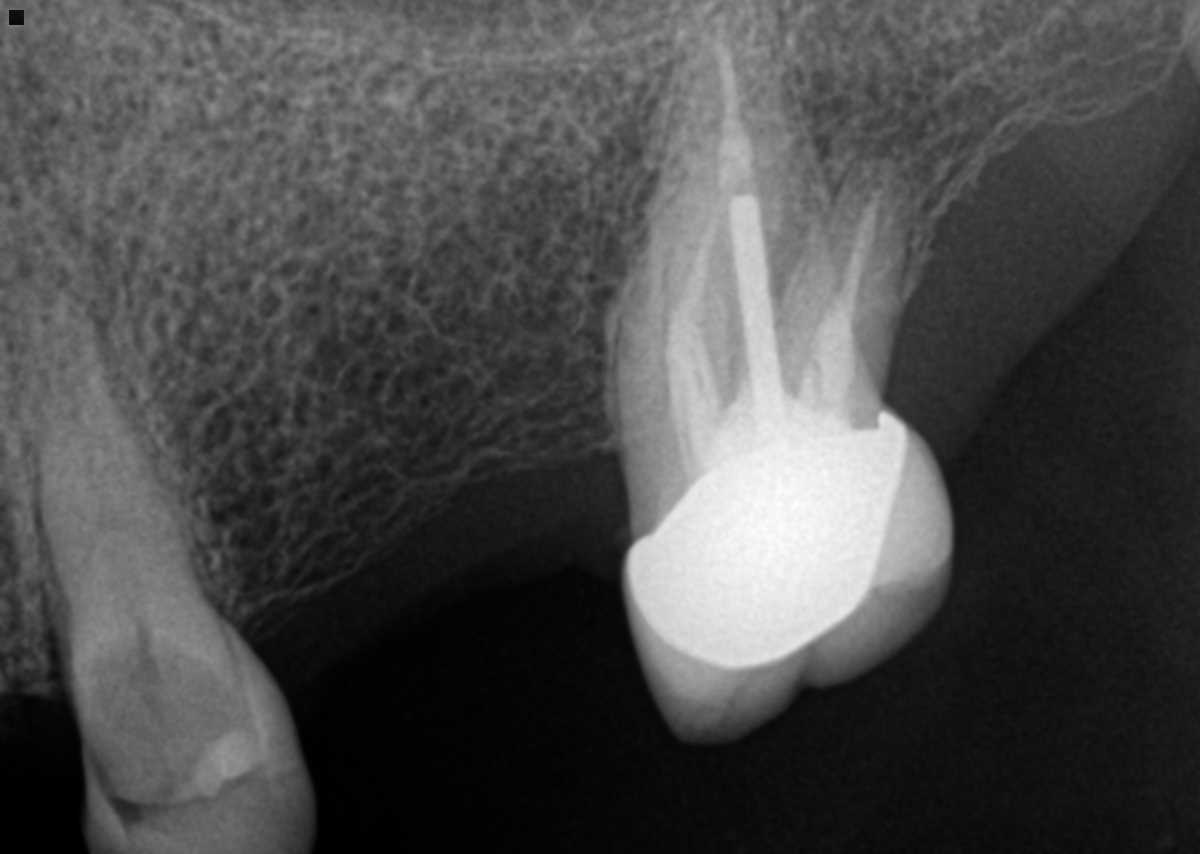Distal Root: (769, 152, 913, 396)
Main Root: (38, 292, 222, 667)
Mesial Root: (614, 165, 745, 443)
Palatal Root: (650, 0, 866, 443), (716, 43, 754, 190)
Root Canal Filling: (795, 185, 883, 402), (664, 205, 723, 445)
decay: (89, 645, 310, 853)
